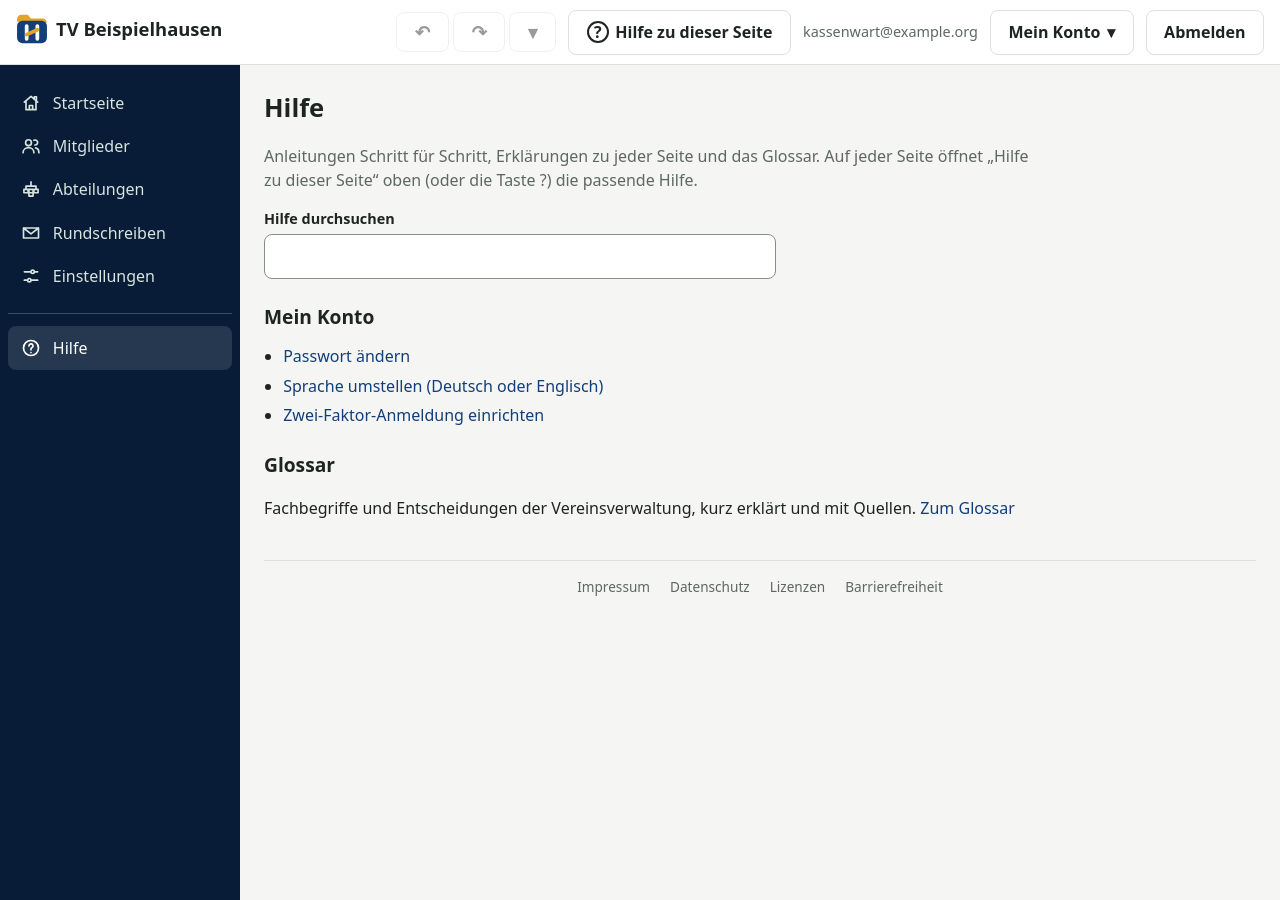
Test: Oberfläche › Menüpunkt heißt „Hilfe“; /hilfe zeigt Anleitungen nach Rechten, die Suche auch das Glossar
Check: the heading "Hilfe" is shown, box x1=264 y1=90 x2=324 y2=125
Type "Authenticator" into the search field labelled "Hilfe durchsuchen" at [520, 257], box x1=264 y1=234 x2=776 y2=279
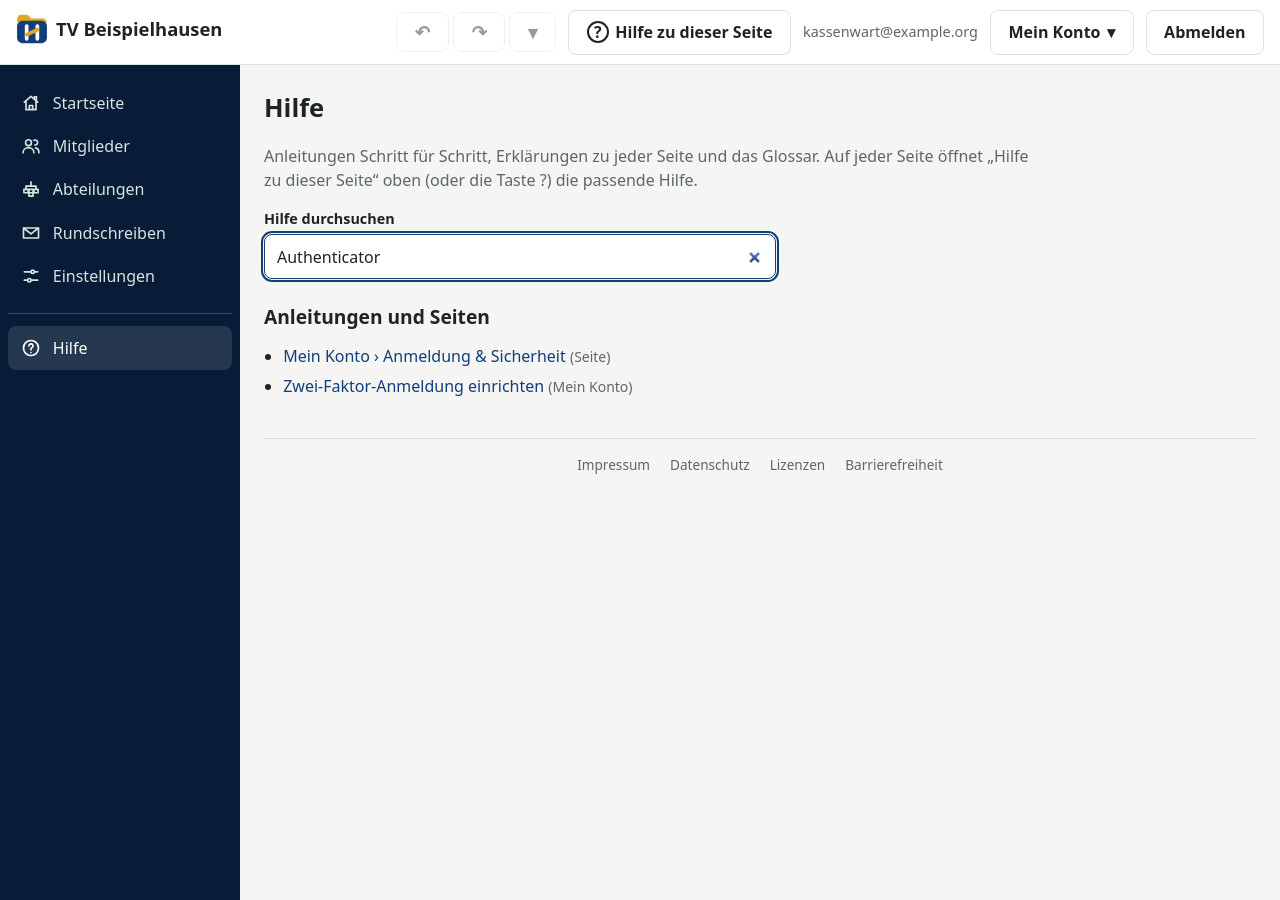
Check: the link "Zwei-Faktor-Anmeldung einrichten" is shown, box x1=283 y1=375 x2=544 y2=397
Check: the link "Passwort ändern" is gone
